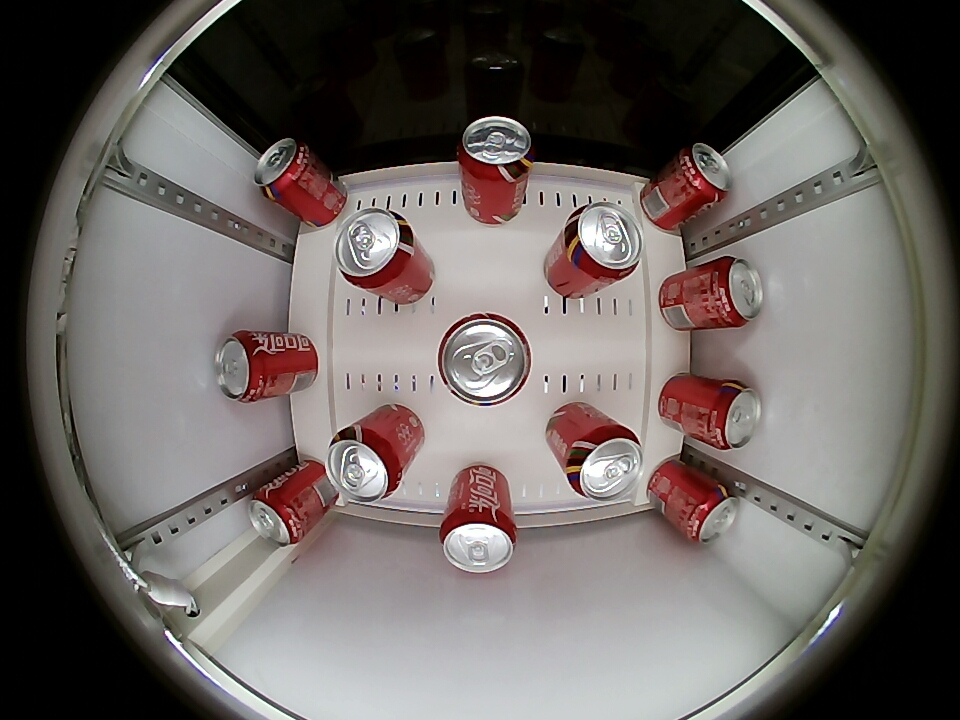kele: (436, 311, 534, 408), (335, 208, 419, 290), (560, 202, 643, 283), (563, 424, 646, 502), (326, 426, 405, 503), (458, 116, 535, 182), (440, 508, 517, 574), (705, 380, 762, 451), (214, 331, 269, 403), (709, 256, 764, 328), (253, 137, 313, 200), (248, 485, 306, 546), (677, 142, 733, 205), (683, 484, 739, 545)
